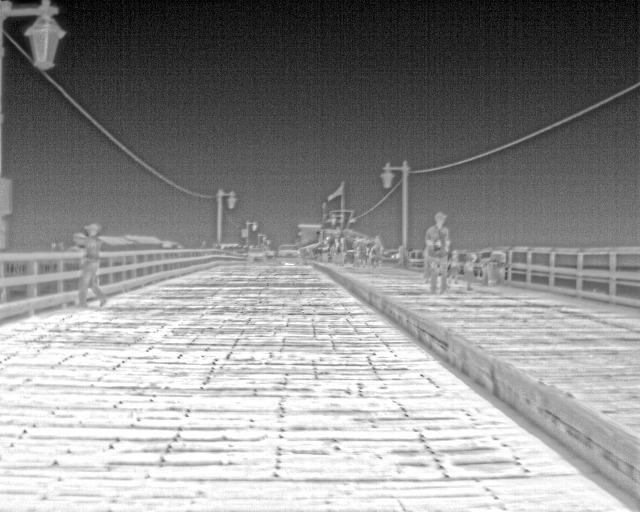bicycle: (275, 243, 302, 262), (245, 244, 267, 264)
empty: (72, 223, 111, 307), (422, 210, 454, 291), (461, 253, 479, 287), (446, 248, 461, 283), (355, 234, 369, 267), (317, 236, 331, 264), (337, 235, 349, 266)
